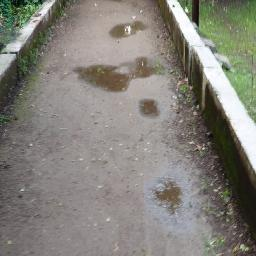water accumulation: (73, 55, 165, 93), (151, 180, 185, 216), (108, 21, 147, 39), (139, 97, 160, 118)
